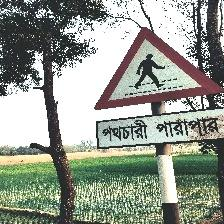Pedestrian-crossing: (93, 25, 224, 150)
